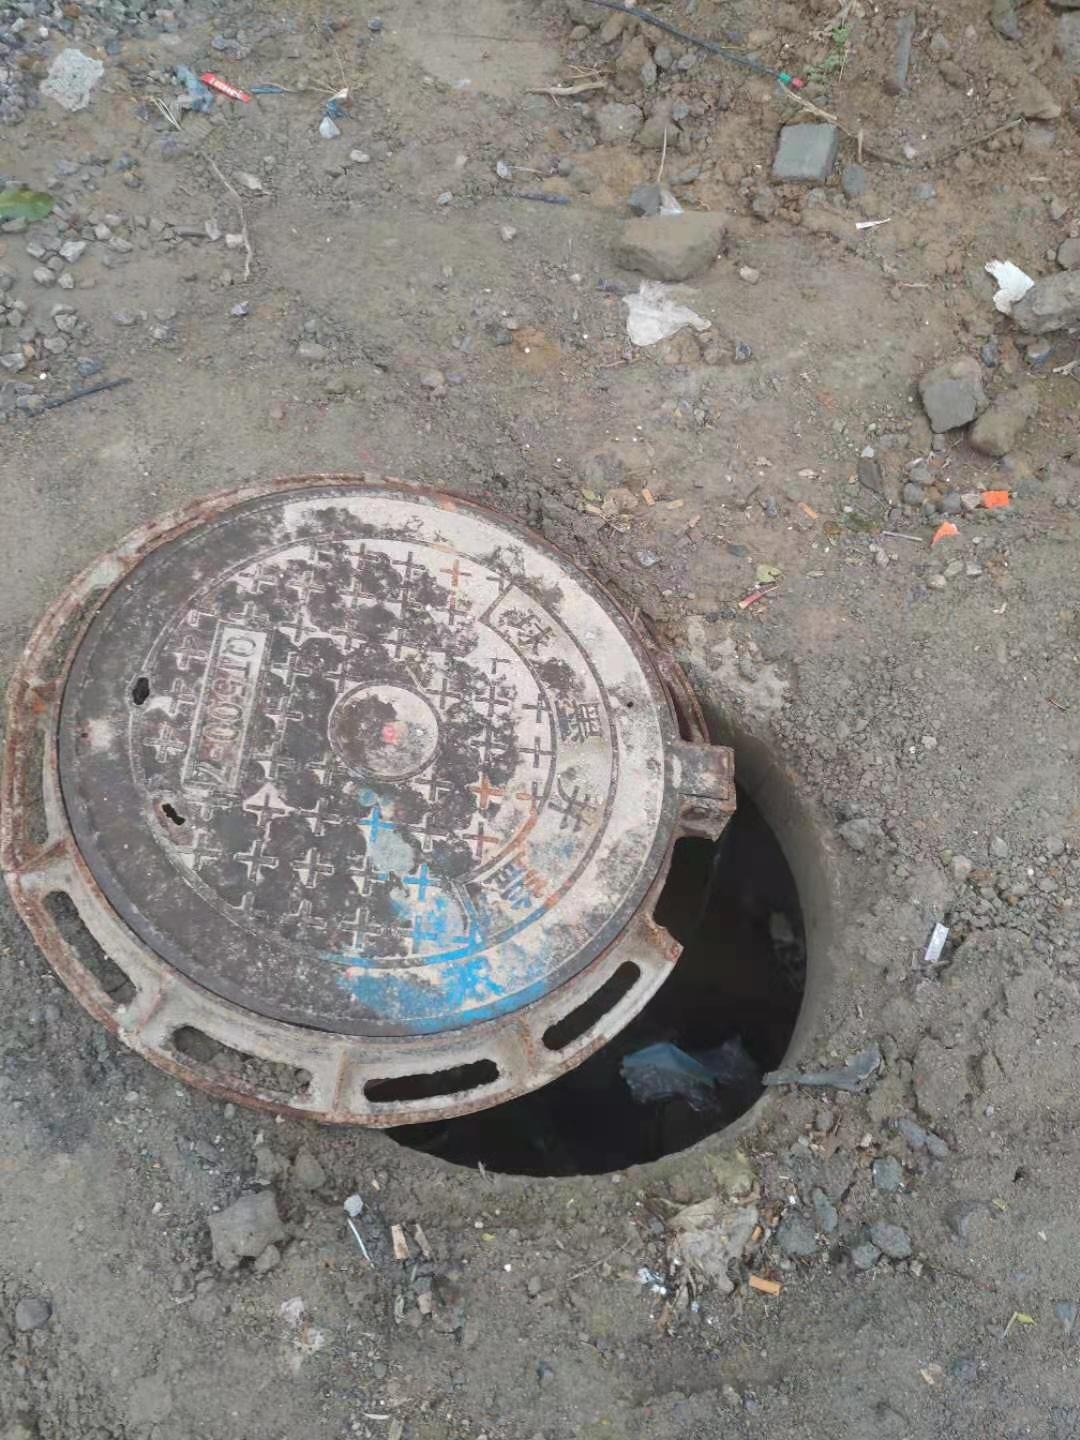uncovered: (12, 475, 834, 1174)
